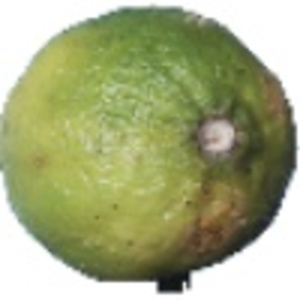limão: (1, 5, 300, 294)
